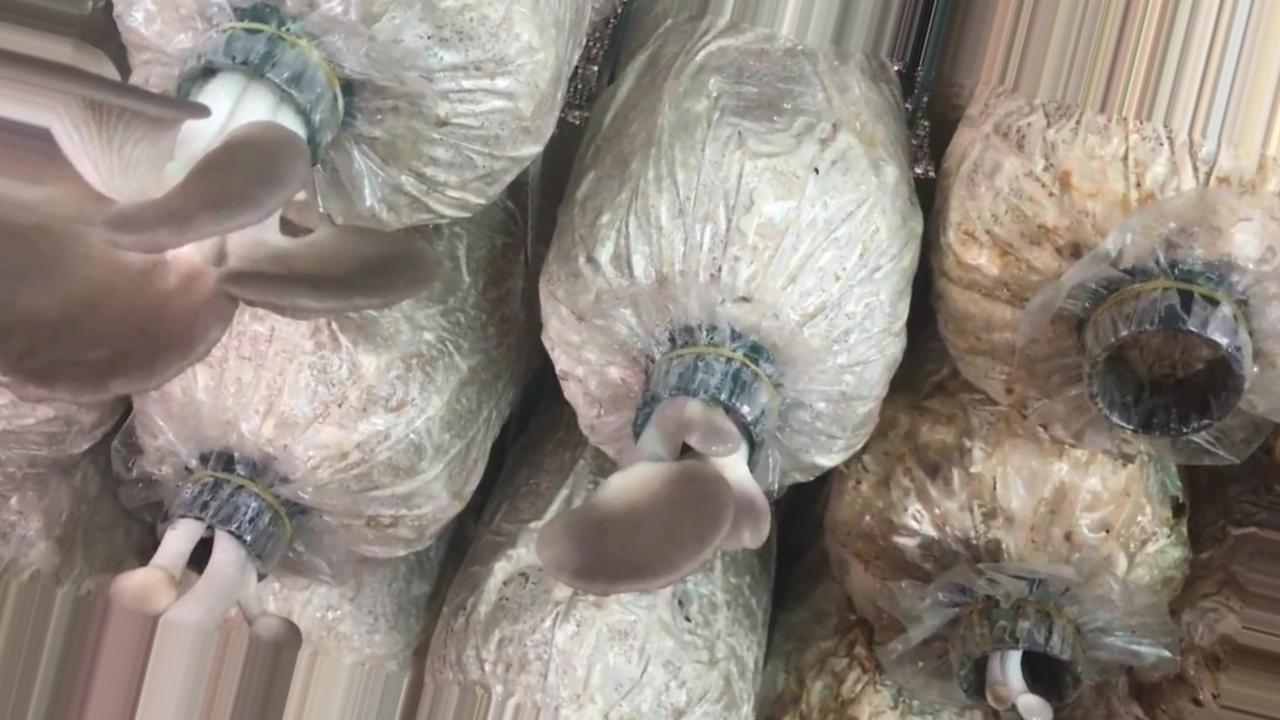nam: (1, 21, 439, 406), (538, 356, 781, 598), (88, 487, 302, 720), (957, 609, 1084, 720)
